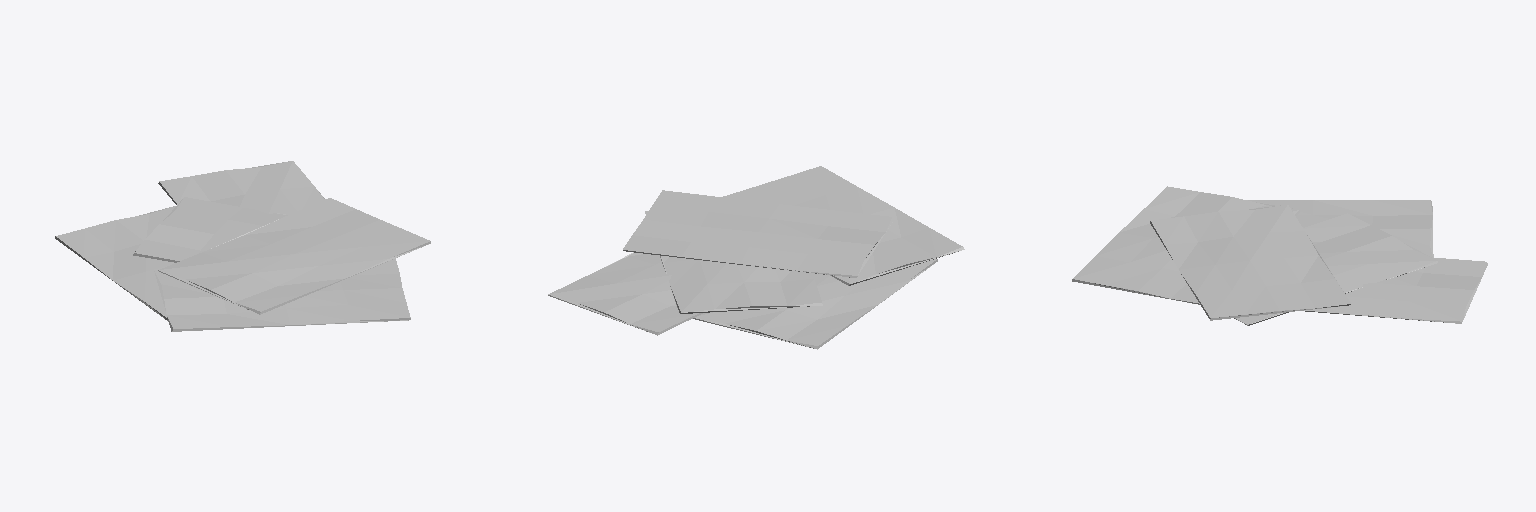
Rendered from paper_debris_1_005.obj.
3 views of the same model, side by side, from view 1: azimuth 30°, elevation 25°; view 2: azimuth 150°, elevation 25°; view 3: azimuth 270°, elevation 25° (orthographic).
Parts seen in each view (by area): view 1: Cube.004_Cube.008; view 2: Cube.004_Cube.008; view 3: Cube.004_Cube.008.
Boxes of the visible parts, x1,y1,x2,y2 form: Cube.004_Cube.008: [55, 161, 430, 331]; Cube.004_Cube.008: [548, 166, 964, 349]; Cube.004_Cube.008: [1072, 186, 1487, 325].
Bounding box in the file's own units: 1.35 × 0.0654 × 1.73.